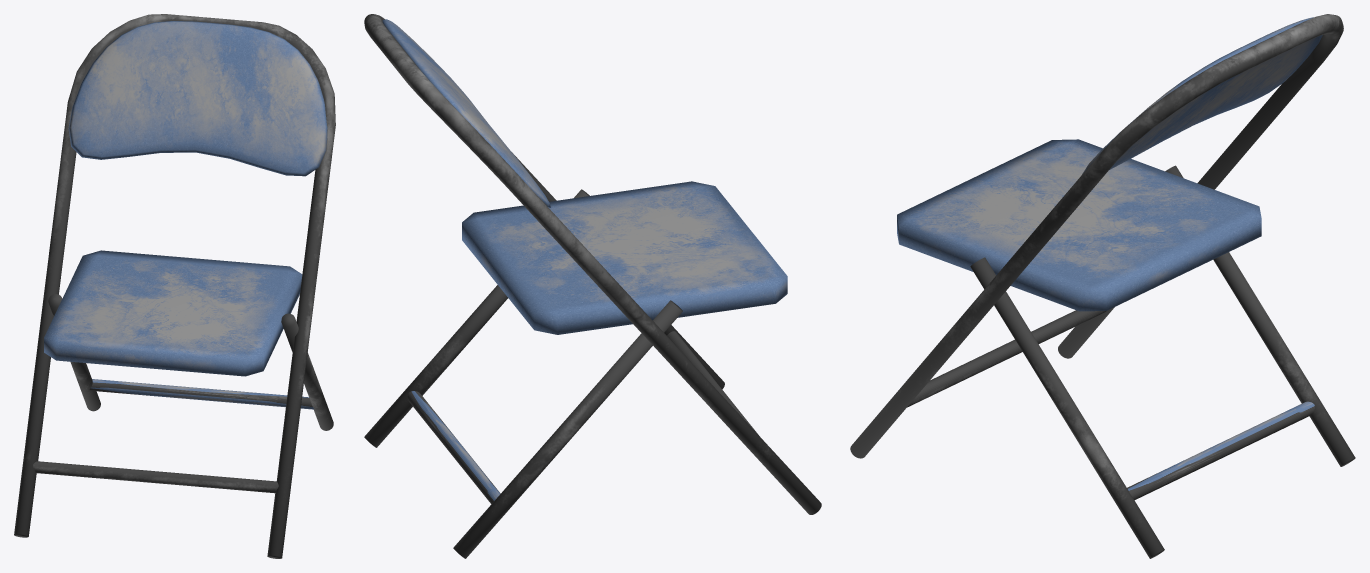
Rendered from krzeslo.glb.
3 renders of one model, left to right at view 1: azimuth 30°, elevation 25°; view 2: azimuth 150°, elevation 25°; view 3: azimuth 270°, elevation 25°, orthographic. The views are drawn at different scales.
Parts seen in each view (by area): view 1: Plane.076; view 2: Plane.076; view 3: Plane.076.
Boxes of the visible parts, bbox=[...] form: Plane.076: bbox=[14, 14, 335, 558]; Plane.076: bbox=[364, 14, 821, 558]; Plane.076: bbox=[850, 14, 1355, 558].
Bounding box in the file's own units: 0.9102 × 0.9653 × 0.9233.
1 material, 1 textured.
